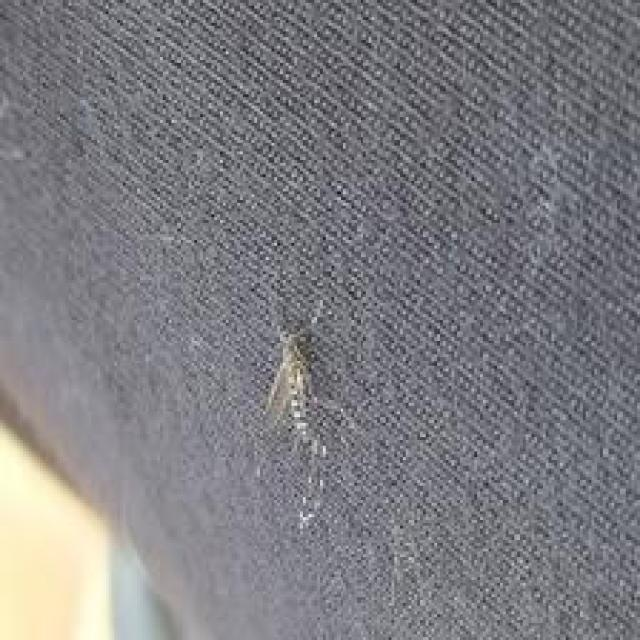Aedes albopictus: (258, 323, 333, 534)
